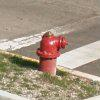Hydrant: (32, 25, 70, 73)
